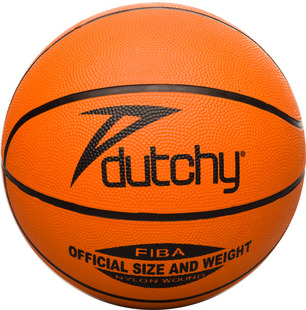basketball: (2, 4, 306, 309)
